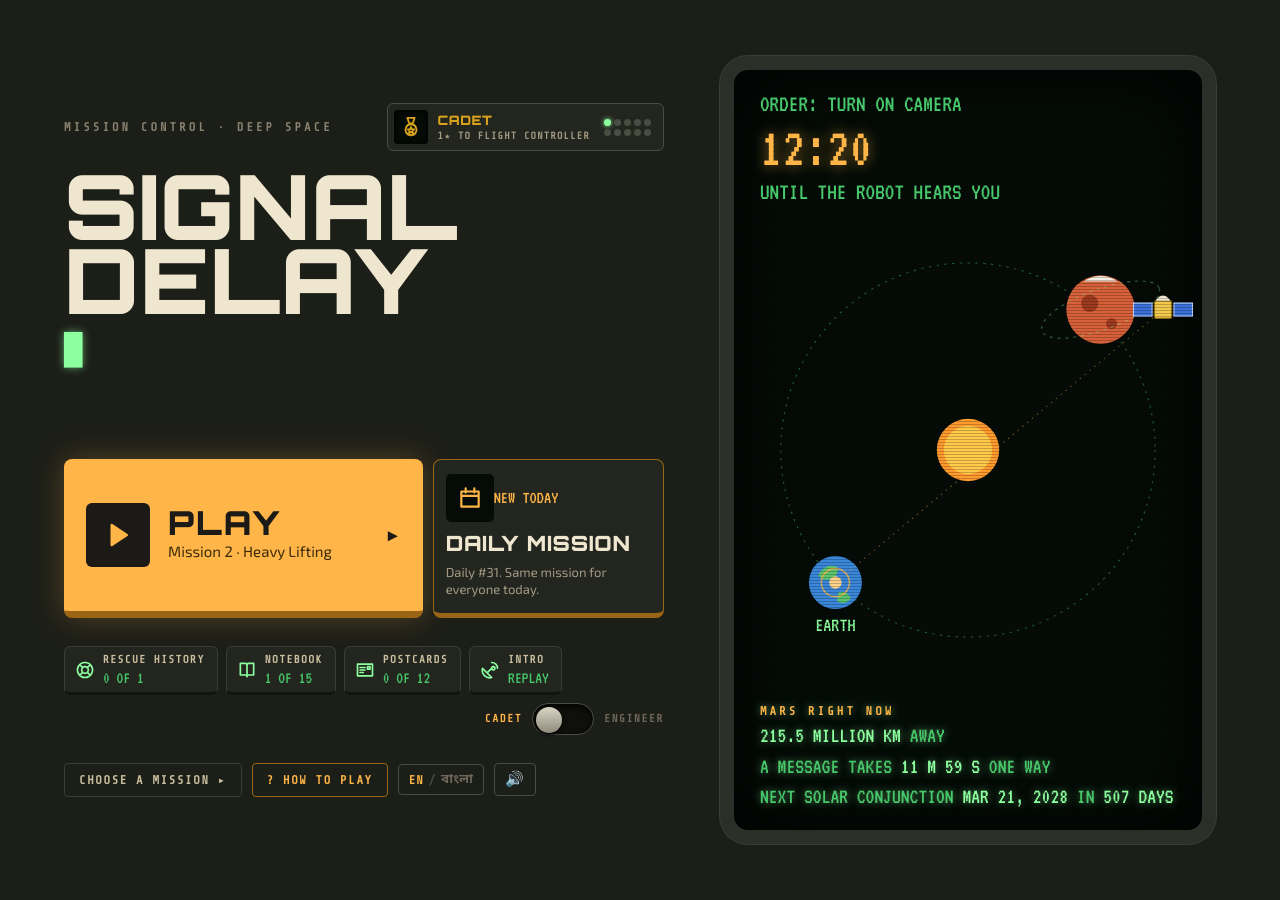
Level map › a star on a level opens the next one, and stars persist between visits
Click the button "CHOOSE A MISSION ▸".
click(153, 780)  # box [64, 763, 242, 797]
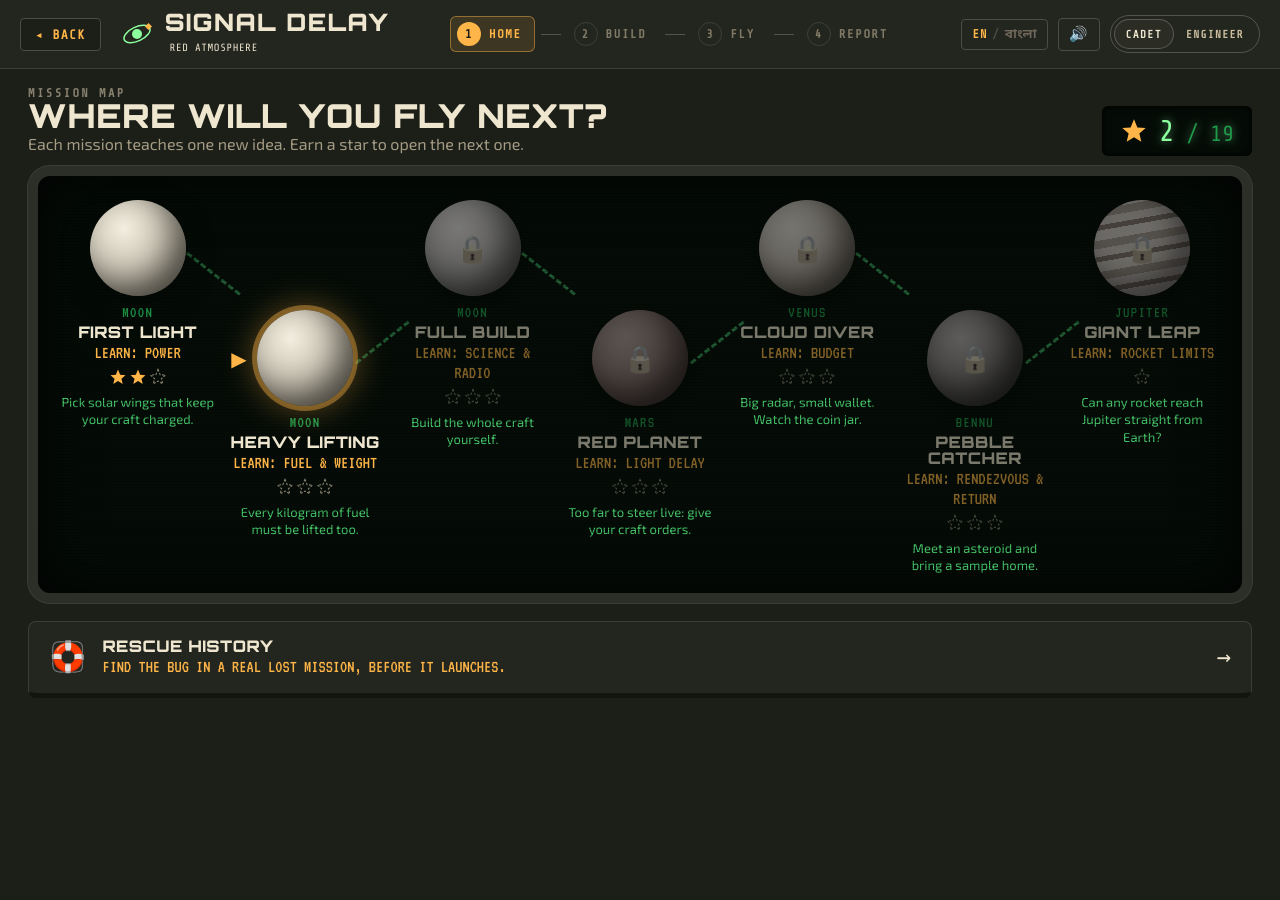
Expected: the button "▶ Moon Heavy Lifting Learn: Fuel & weight" is enabled, [230, 310, 380, 496]
Expected: the button "🔒 Moon Full Build Learn: Science & radio" is disabled, [395, 200, 550, 406]
Expected: the button "Moon First Light Learn: Power" is shown, [78, 200, 197, 386]
